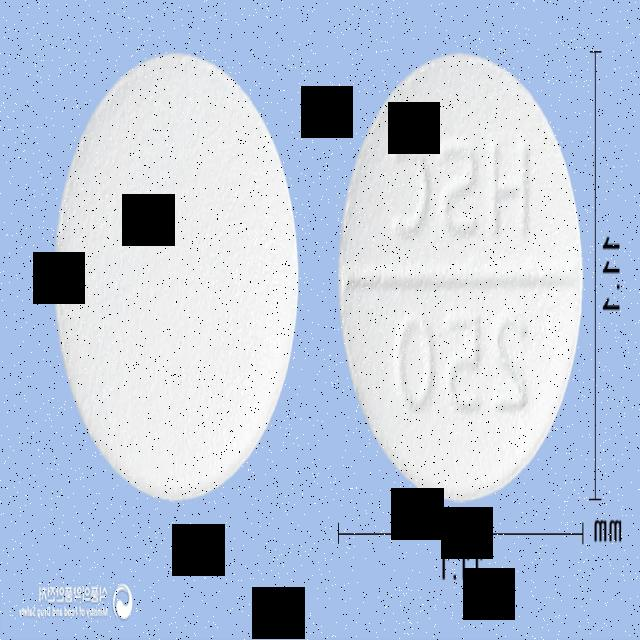Proxacinby Tab: (338, 49, 584, 504), (55, 51, 298, 505)
